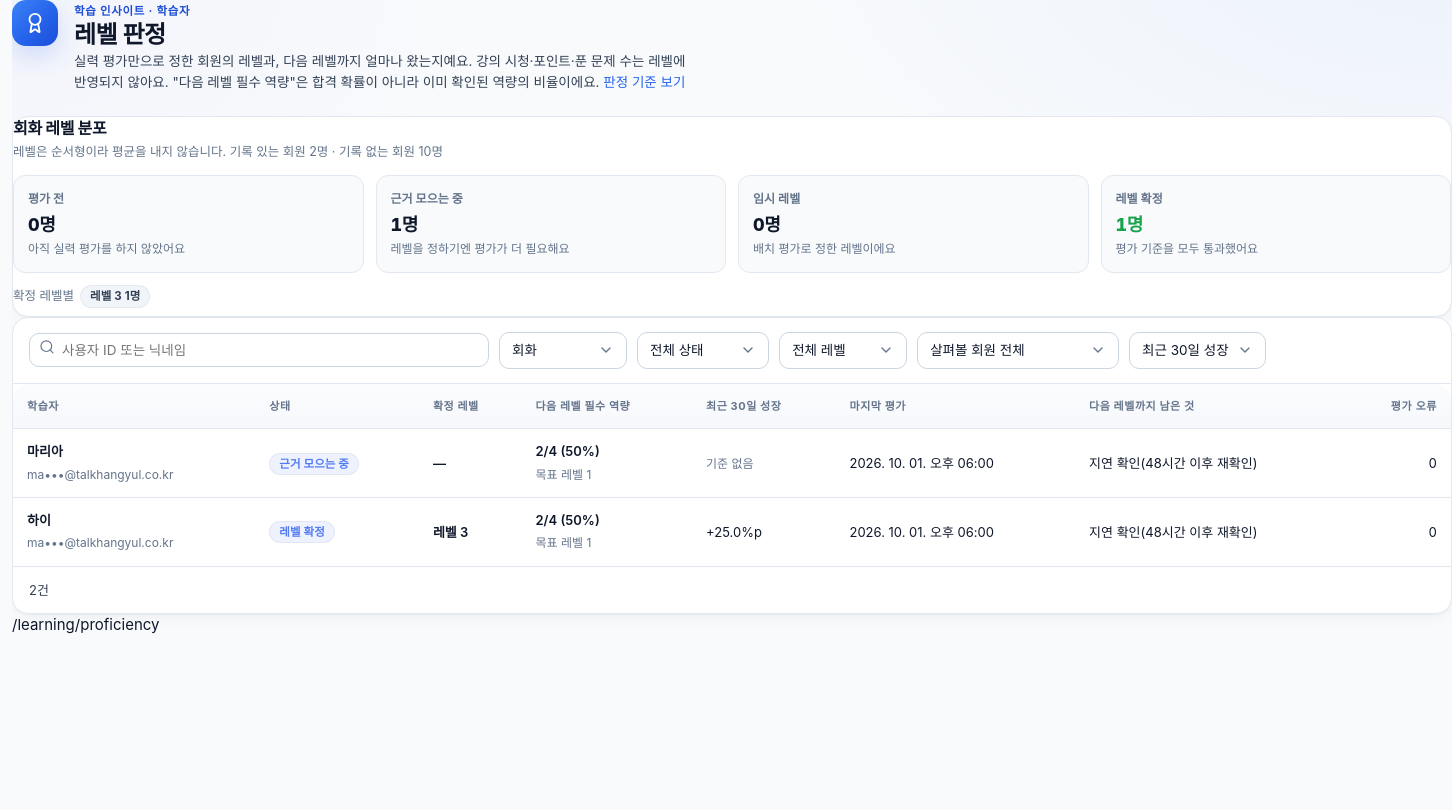
Test case: 실력 판정 list › shows growth in points, never a fabricated zero, and keeps filters in the URL
This screenshot has width=1452, height=810.
Expected: the text "마리아" is shown, [27,444,63,460]
Expected: the text "기준 없음" is shown, [706,456,754,471]
What coordinates should you click on to do the following:
click the button with aria-label "주의 필요"
I would click on:
 (1018, 350)
Its box is [917,332,1119,369].
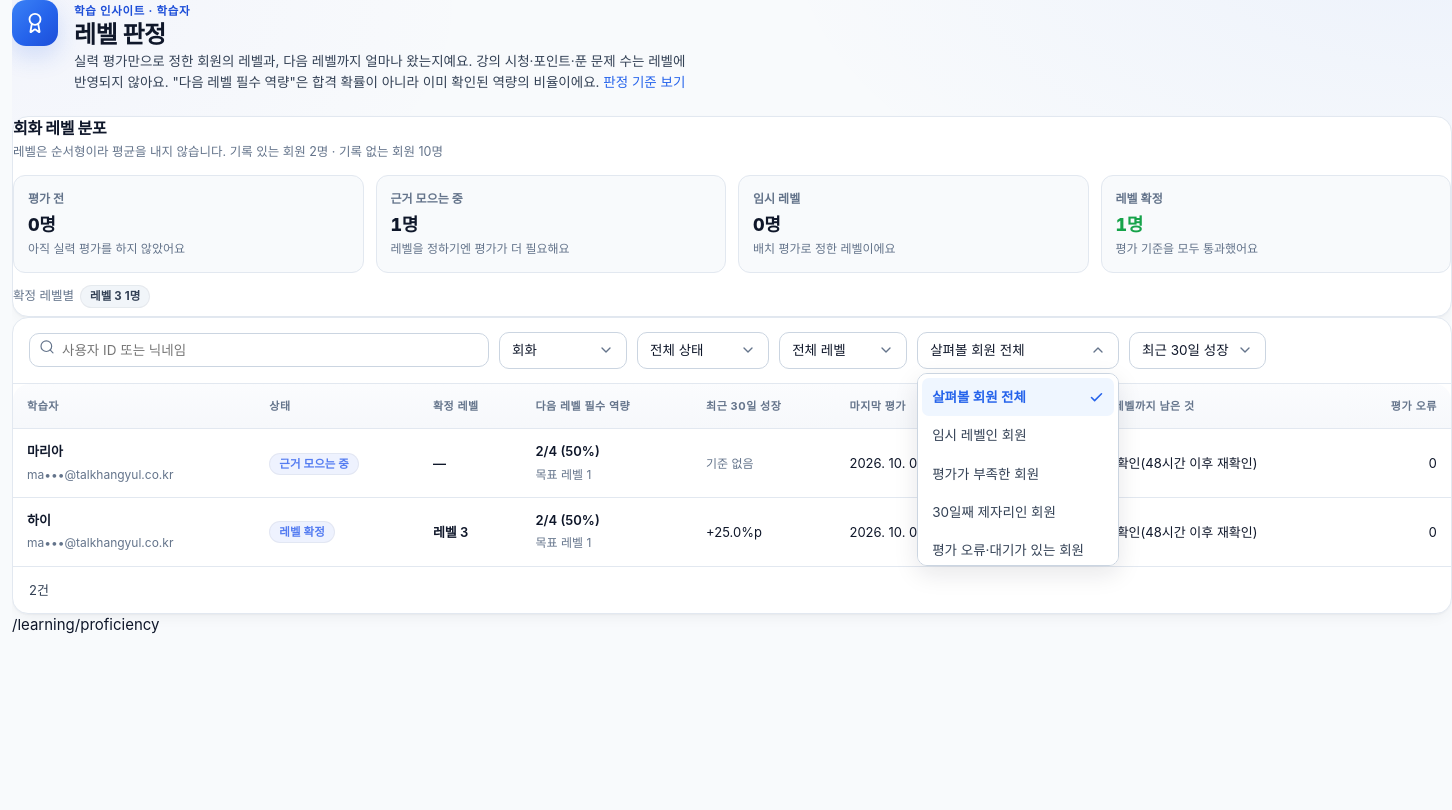
What coordinates should you click on to do the following:
click the option "30일째 제자리인 회원"
I would click on:
 (994, 512)
Its box is [932,504,1056,520].
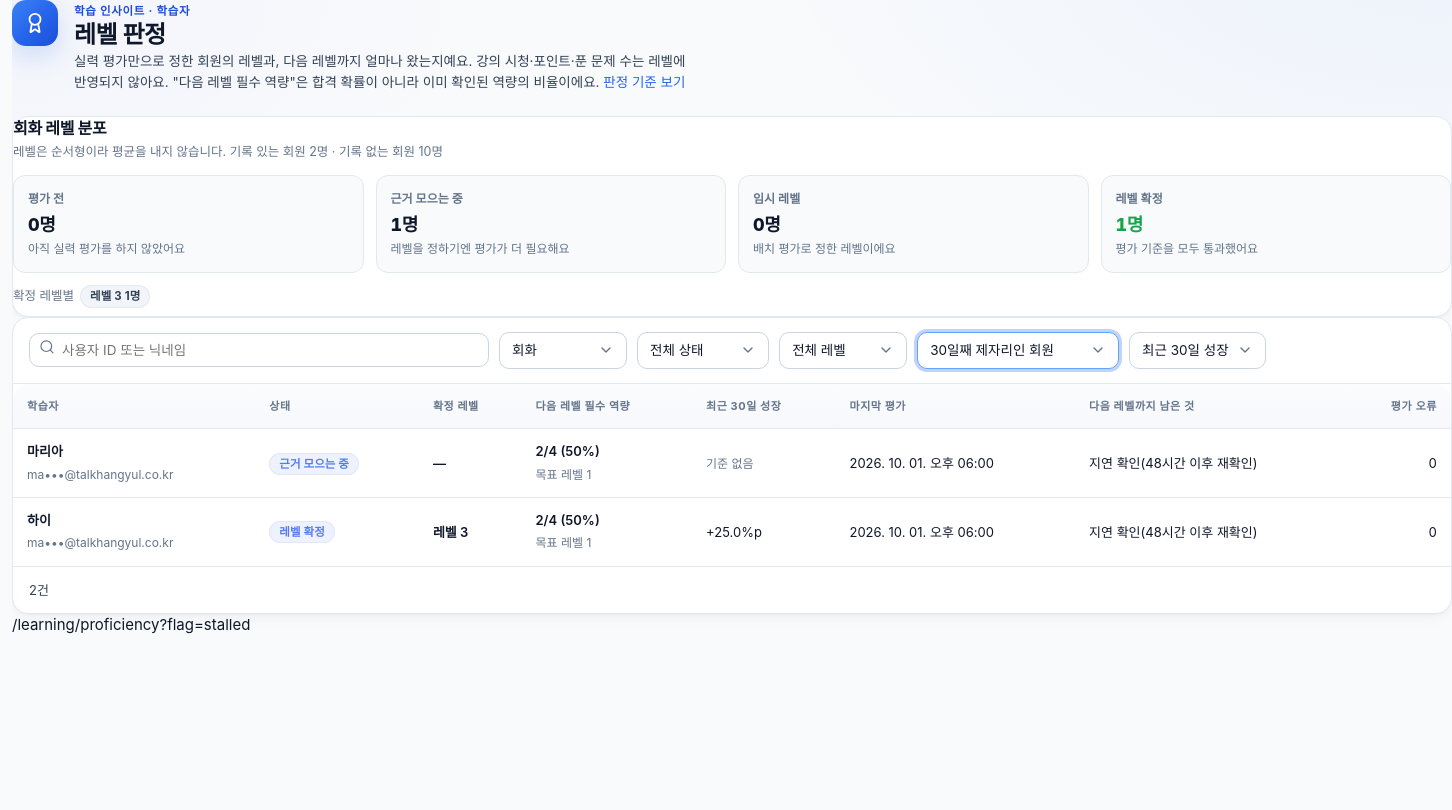
Expected: the text with test id "loc" shows "flag=stalled", [12,615,250,634]
